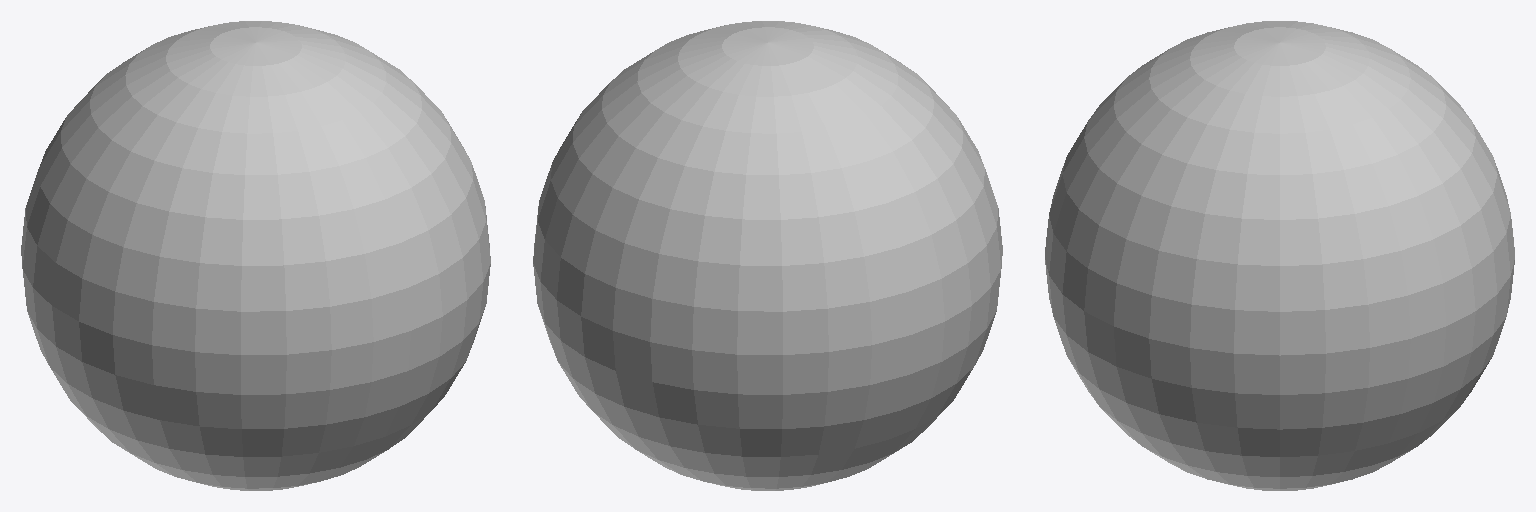
Rendered from camera3.obj.
3 renders of one model, left to right at view 1: azimuth 30°, elevation 25°; view 2: azimuth 150°, elevation 25°; view 3: azimuth 270°, elevation 25°, orthographic.
Parts seen in each view (by area): view 1: camera3_Sphere.002; view 2: camera3_Sphere.002; view 3: camera3_Sphere.002.
Boxes of the visible parts, x1=… form: camera3_Sphere.002: x1=21, y1=21, x2=490, y2=490; camera3_Sphere.002: x1=533, y1=21, x2=1002, y2=490; camera3_Sphere.002: x1=1045, y1=21, x2=1514, y2=490.
Size of the model in its own units: 4.06 by 4.06 by 4.06.